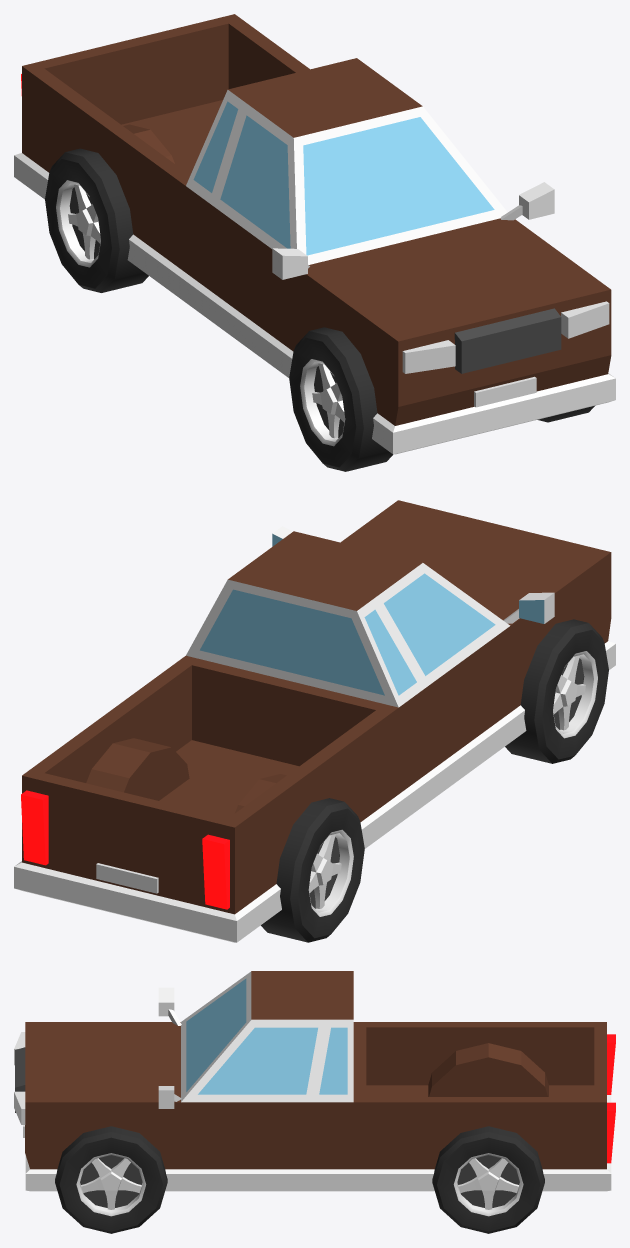
Rendered from Car3.fbx.
The picture shows the model from 3 angles, top to bottom: view 1: azimuth 30°, elevation 25°; view 2: azimuth 150°, elevation 25°; view 3: azimuth 270°, elevation 25°; orthographic projection. The views are drawn at different scales.
Visible parts, largest first — view 1: wheel_standart.004, wheel_standart.014, wheel_standart.015; view 2: wheel_standart.004, wheel_standart.015, wheel_standart.014; view 3: wheel_standart.004, wheel_standart.013, wheel_standart.012.
Part boxes in pixels (box(x1,y1,x2,y2)): wheel_standart.004: box(14, 14, 615, 454); wheel_standart.014: box(289, 327, 393, 471); wheel_standart.015: box(45, 148, 148, 292); wheel_standart.004: box(14, 500, 615, 942); wheel_standart.015: box(261, 798, 364, 942); wheel_standart.014: box(505, 619, 608, 763); wheel_standart.004: box(14, 971, 615, 1191); wheel_standart.013: box(432, 1126, 544, 1233); wheel_standart.012: box(55, 1126, 167, 1233).
Size of the model in its own units: 545 by 477 by 1351.
